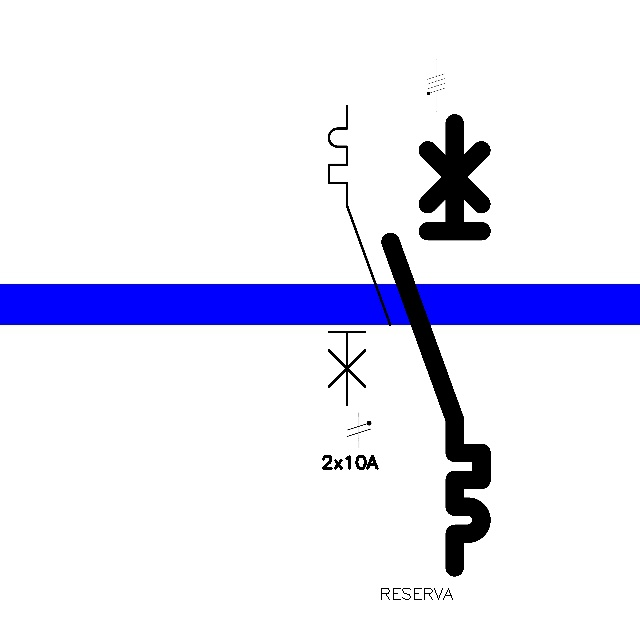interruptor_termomagnetico: (379, 111, 493, 578), (321, 98, 398, 413)
